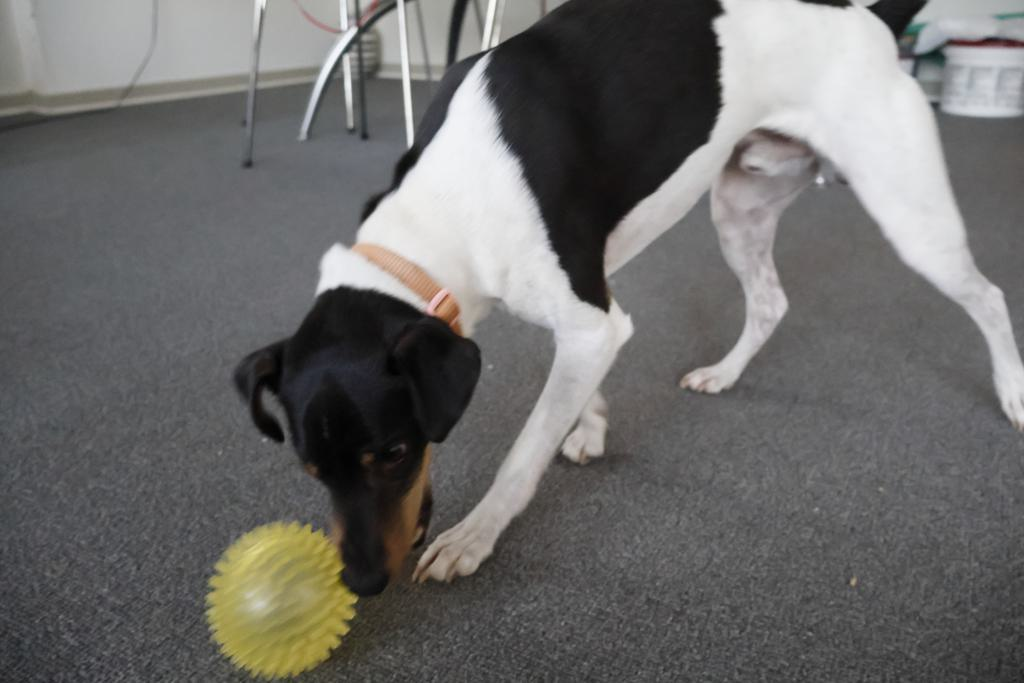Dog: (219, 0, 1024, 613)
